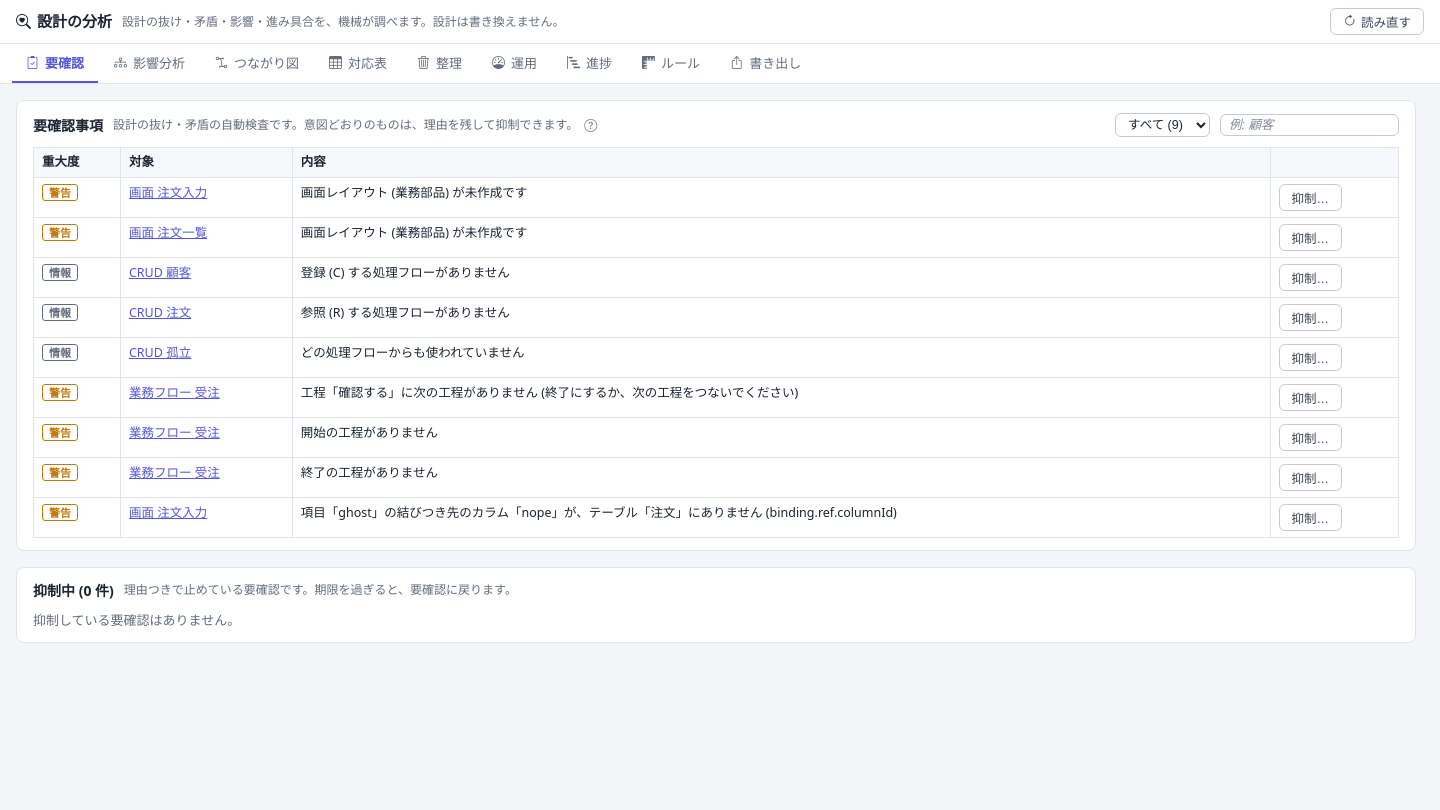
Scenario: ルール › 壊れたルール (危険な正規表現) は、保存させずに理由を出す
The image size is (1440, 810).
Click the tab "ルール" at (671, 64), box [628,44,714,83]
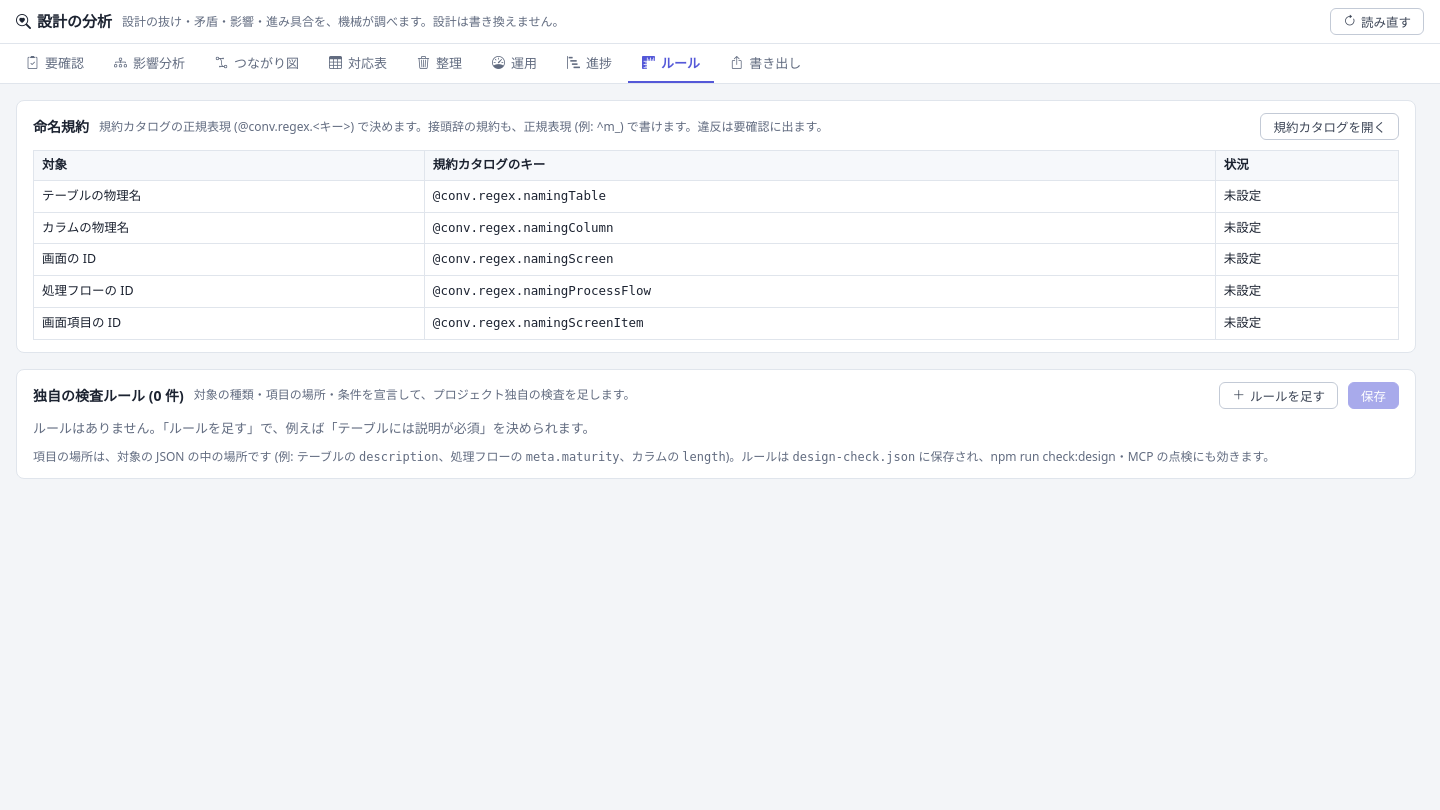
Click the button with test id "an-rule-add" at (1279, 395), box [1220,382,1338,408]
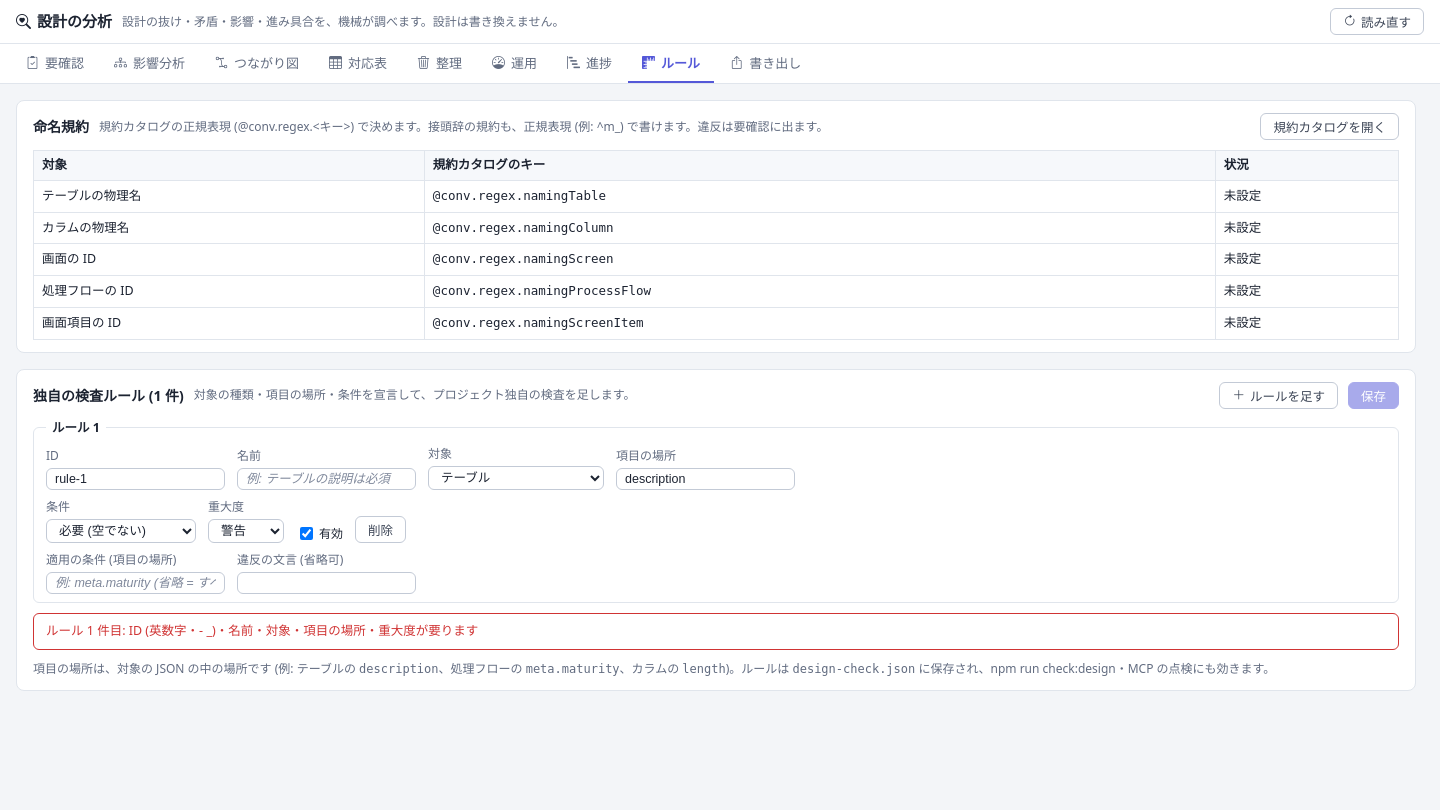
Type "x" into the field with test id "an-rule-name" at (326, 479), box [237,468,416,490]
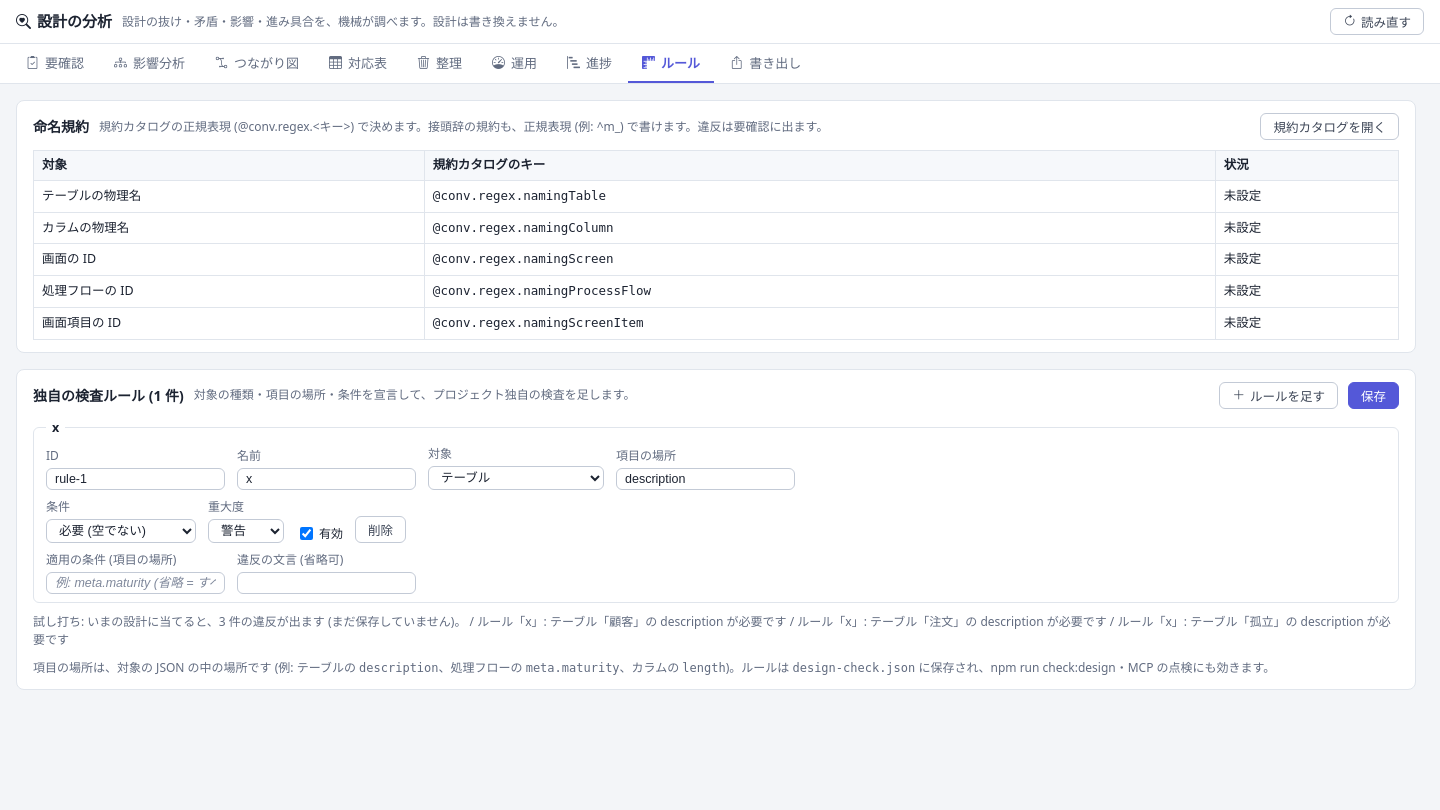
Select "形式 (正規表現)" in the dropdown with test id "an-rule-check" at (121, 531), box [46,519,196,543]
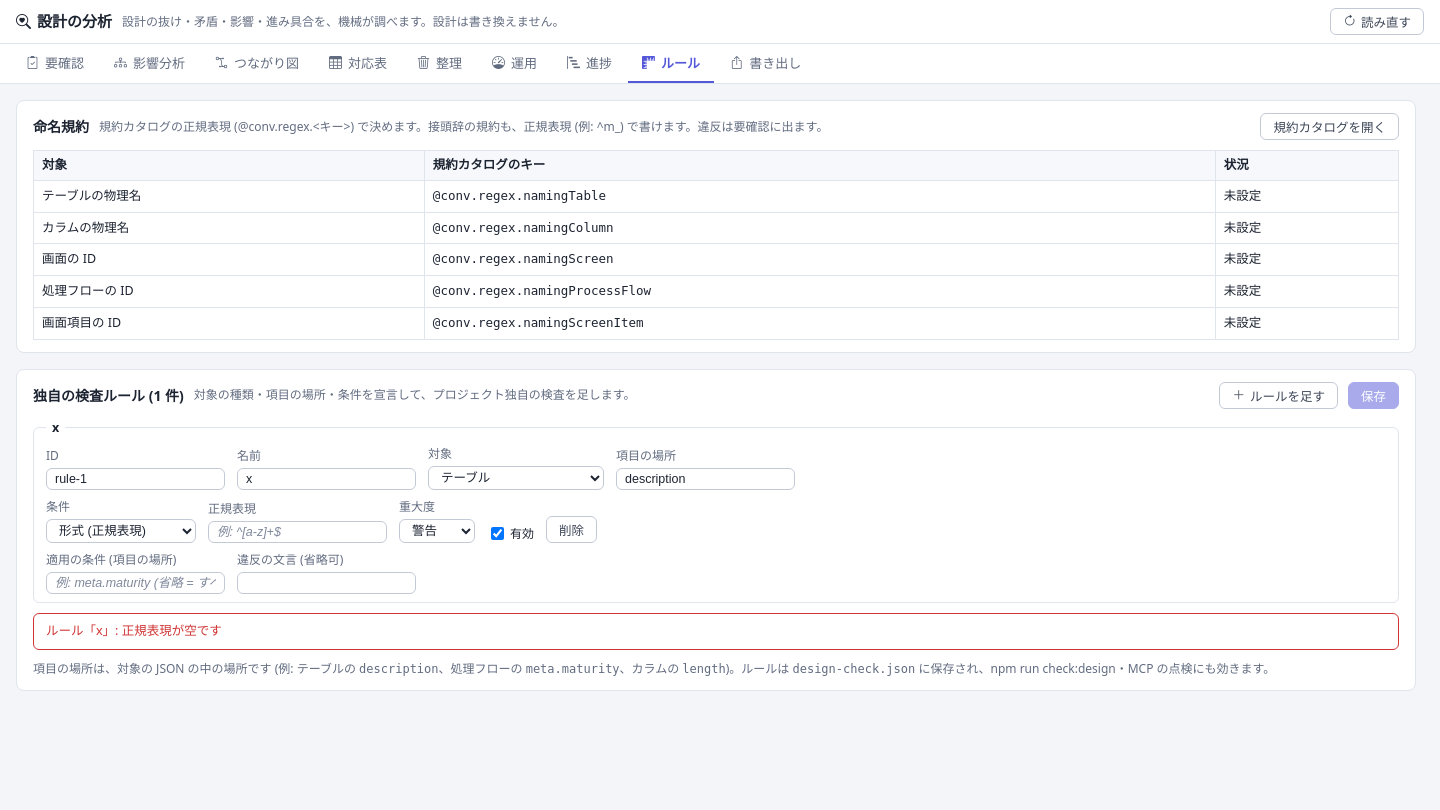
Type "(a+)+" into the field with placeholder "例: ^[a-z]+$" at (298, 532), box [208,521,387,543]
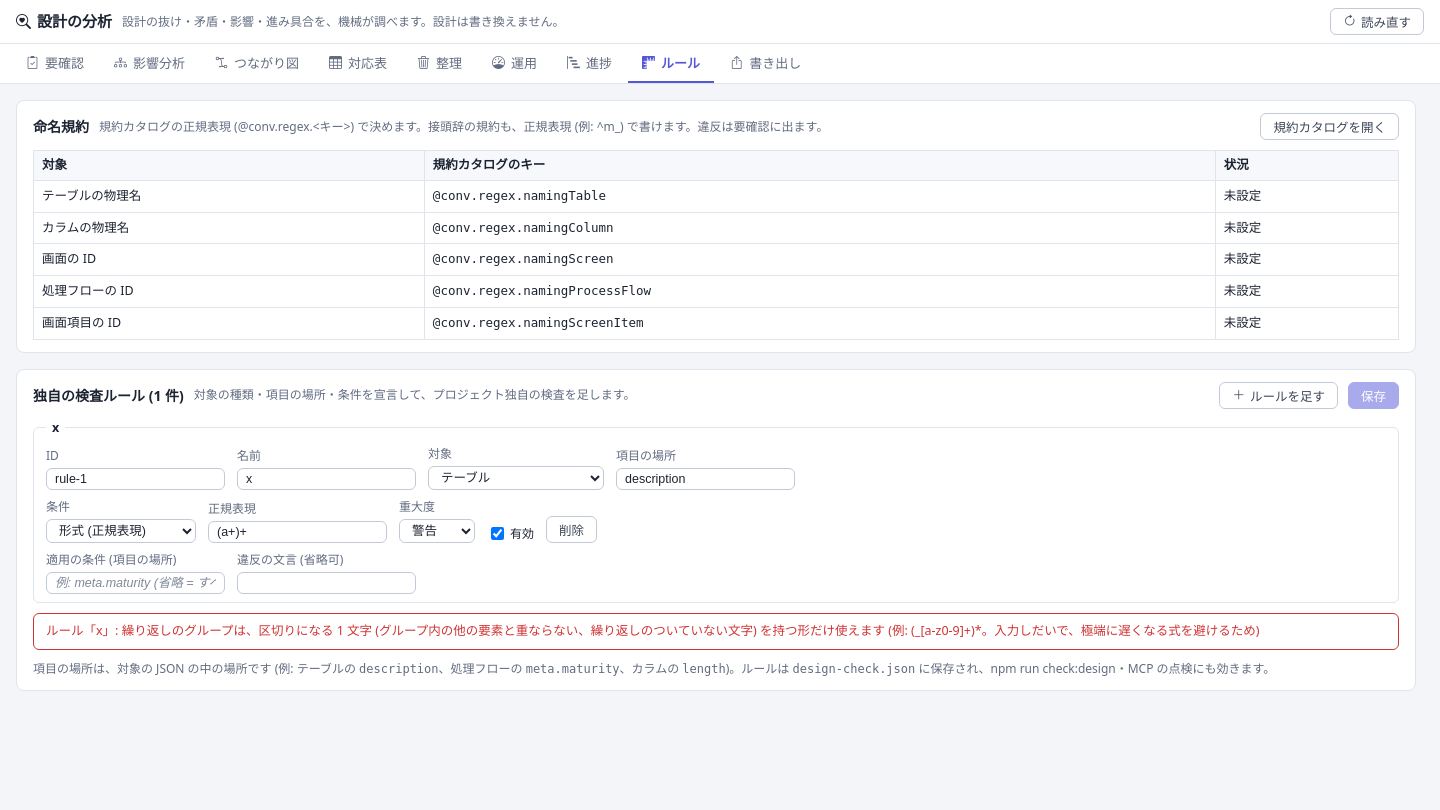
Check: the button with test id "an-rules-save" is disabled, box [1348,382,1399,408]
Check: the message with test id "an-rules-problems" shows "繰り返しのグループ", box [46,622,1260,639]
